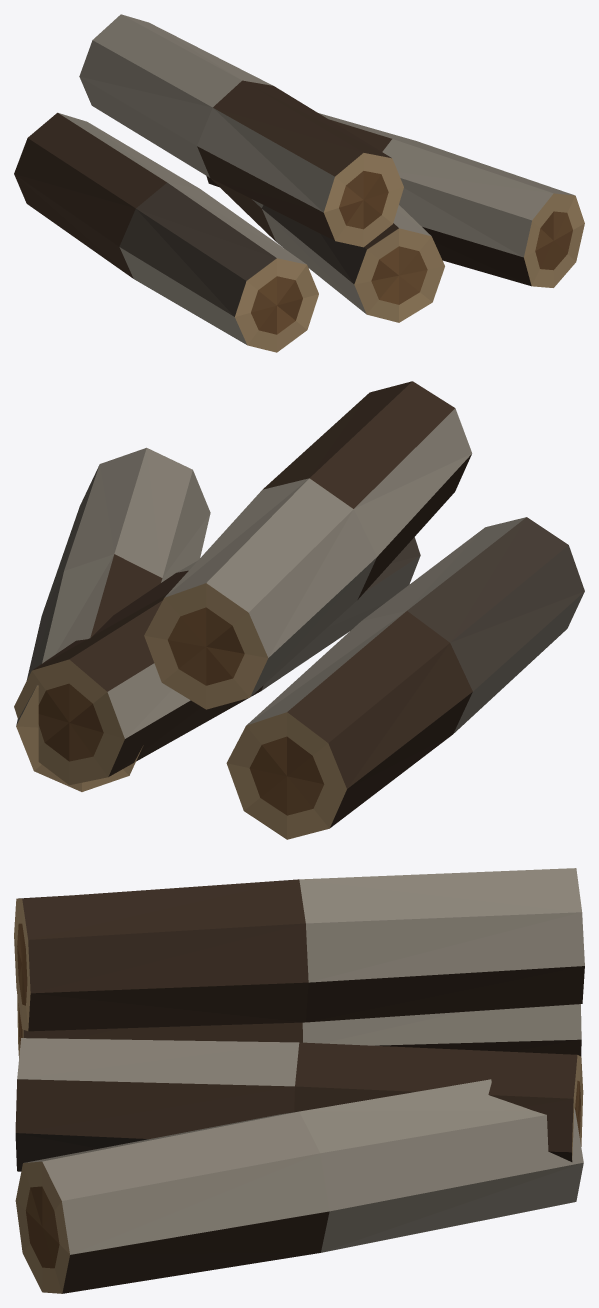
Rendered from logs.glb.
3 views of the same model, one above another, from view 1: azimuth 30°, elevation 25°; view 2: azimuth 150°, elevation 25°; view 3: azimuth 270°, elevation 25° (orthographic). The views are drawn at different scales.
Visible parts, largest first — view 1: logs; view 2: logs; view 3: logs.
Boxes of the visible parts, <box> form: logs: <box>14,14,584,352</box>; logs: <box>14,381,584,839</box>; logs: <box>14,868,584,1293</box>.
Bounding box in the file's own units: 0.776 × 0.3712 × 0.7161.
